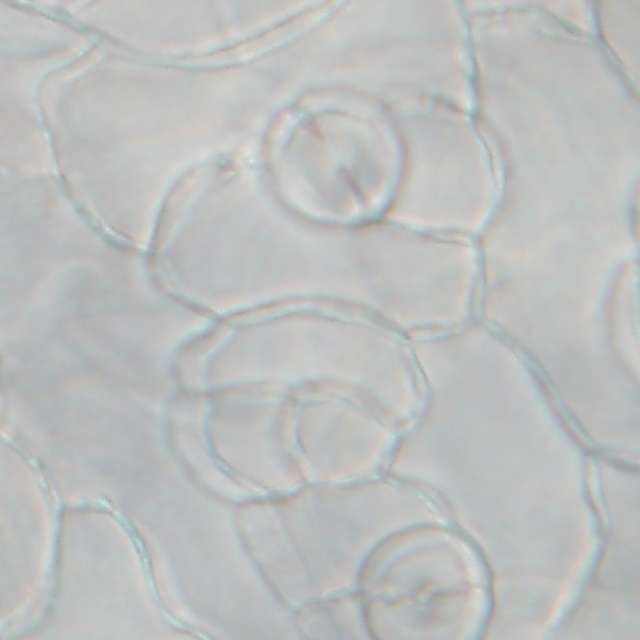center: (314, 131, 362, 192), (399, 578, 448, 610), (597, 317, 640, 321)
stomata-huw1: (266, 87, 404, 226), (358, 526, 494, 639), (610, 257, 639, 381)
